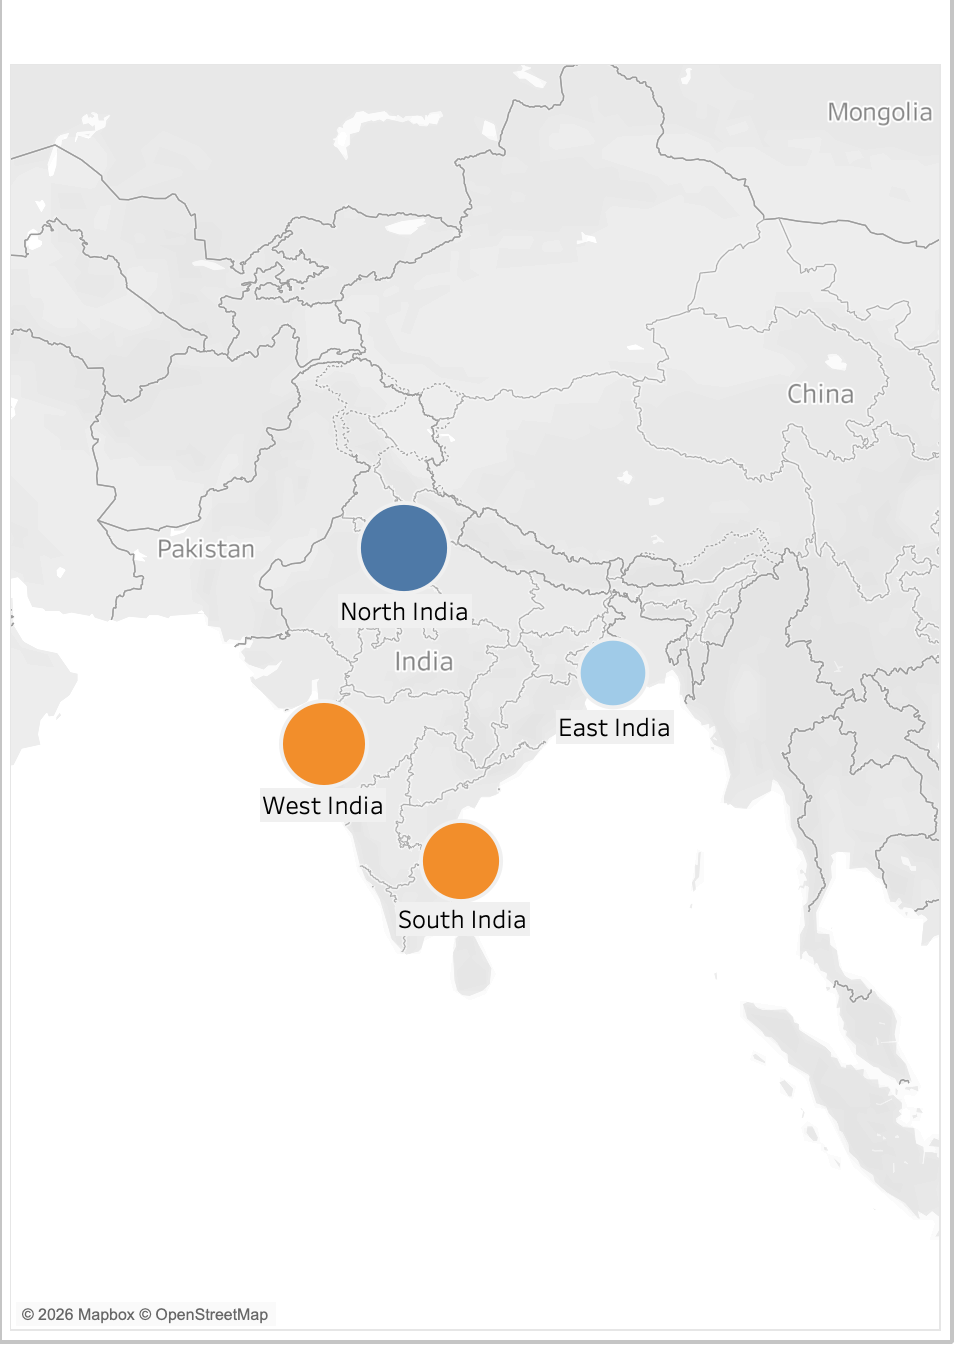

What the dashboard file says about the page in this screenshot:
{"tool":"tableau","page":{"name":"Dashboard 1","canvas":[650,860],"ordinal":0},"visuals":[{"type":"worksheet","title":"Sheet 1","mark":"Automatic","rows":["latitude"],"cols":["longitude"],"box":[8,10.5,474,839]},{"type":"filter","title":"Sheet 1","param":"[federated.1i88gi90s3d9081h2u30714t1l09].[none:sale_date:qk]","box":[482,10.5,160,90.7]},{"type":"legend","title":"Sheet 1","param":"[federated.1i88gi90s3d9081h2u30714t1l09].[none:Calculation_2116128896607264768:n","box":[482,101.2,160,113.1]}]}

Visuals, with their boxes on the page's 650x860 design canvas (x1, y1, x2, y2). These are canvas units, not pixel positions in the 958x1354 screenshot, which may show the page scaled, cropped or inside an application window:
"Sheet 1" worksheet: (8,10,482,850)
"Sheet 1" filter: (482,10,642,101)
"Sheet 1" legend: (482,101,642,214)
